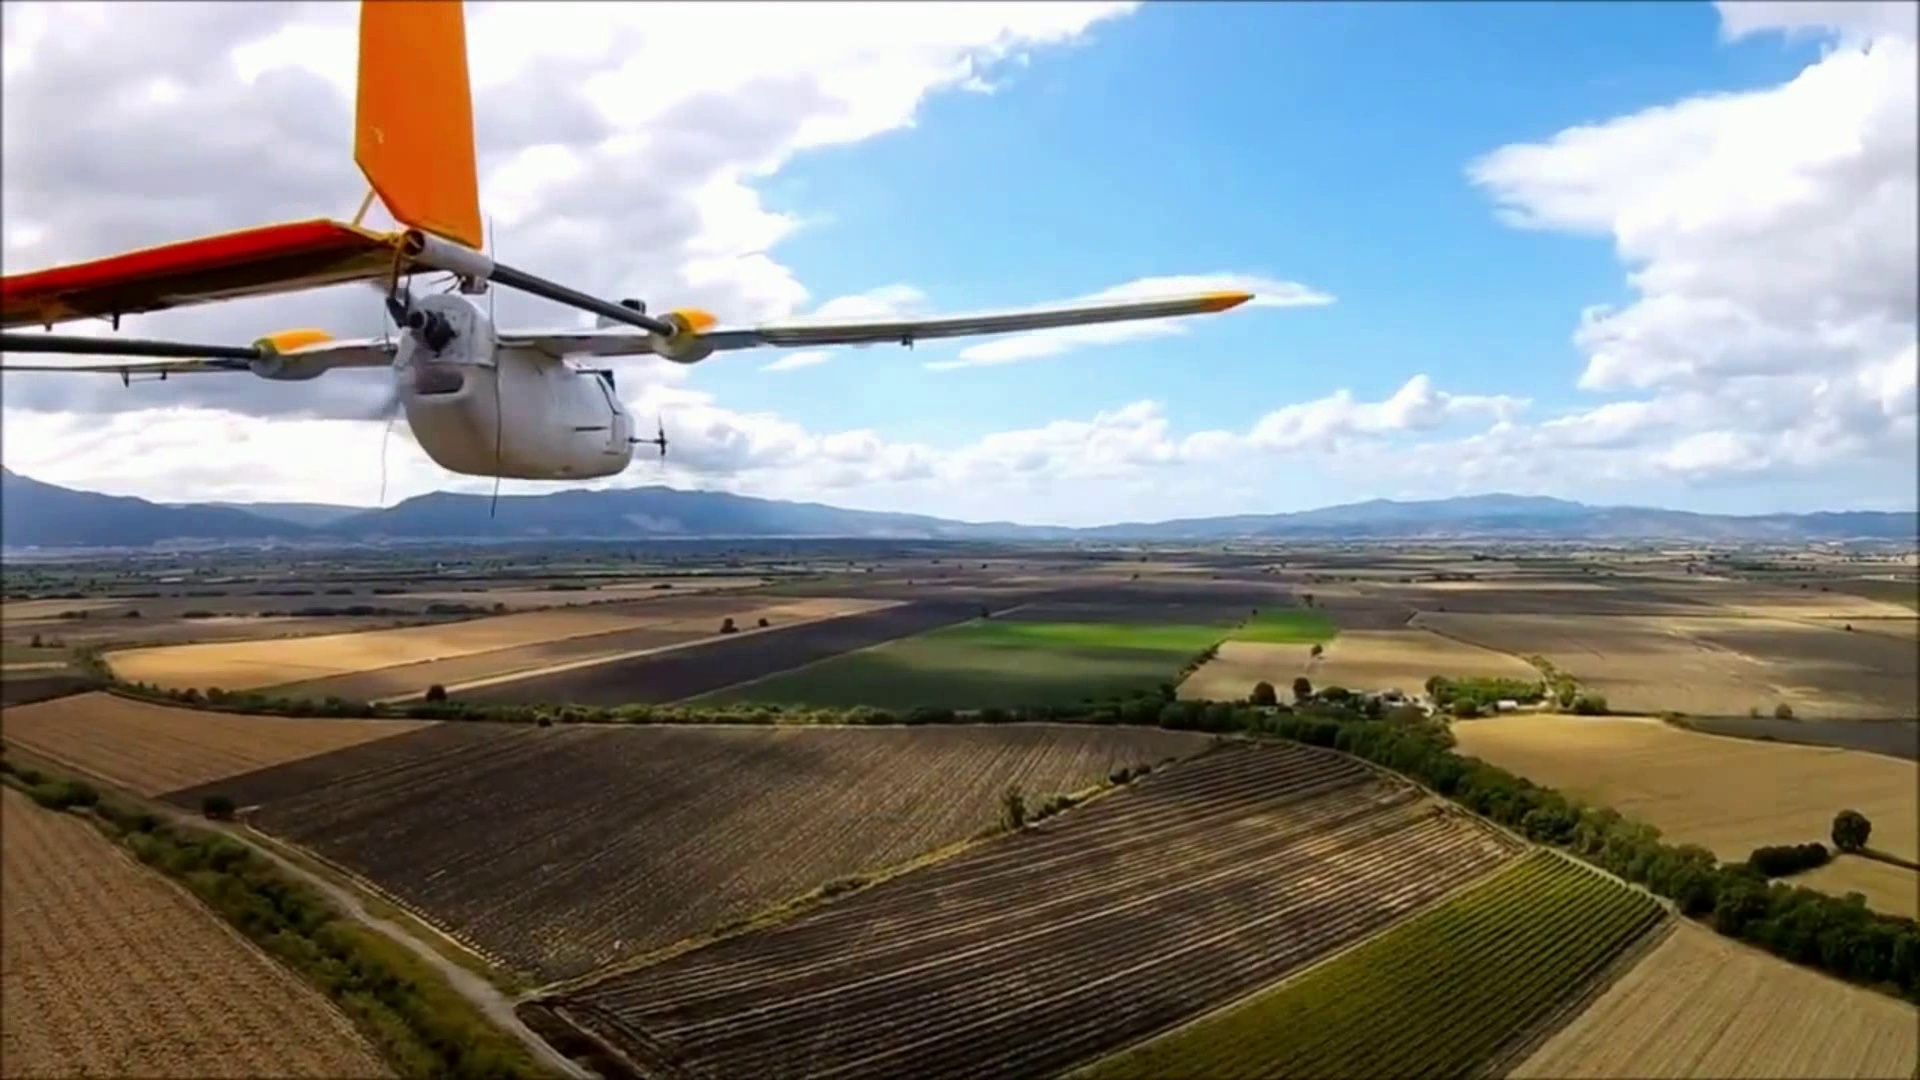airplane: (3, 6, 1315, 491)
